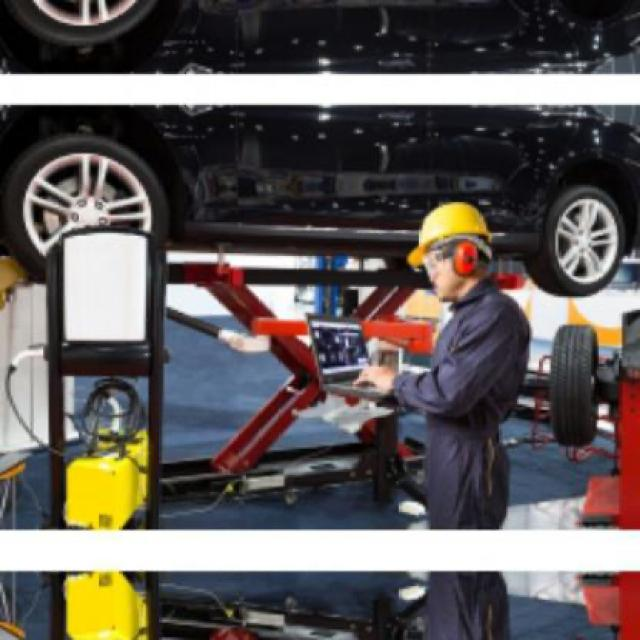helmet: (411, 193, 502, 307)
